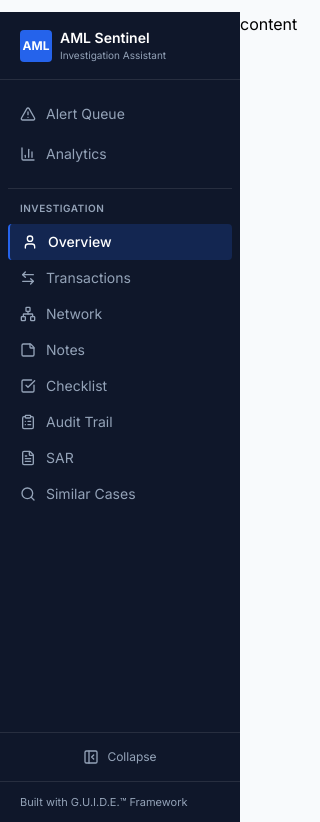
Test: AppShell › hides investigation section labels when sidebar is collapsed on investigation route
Click the button with aria-label "Collapse sidebar" at (120,756), box [8,740,232,772]
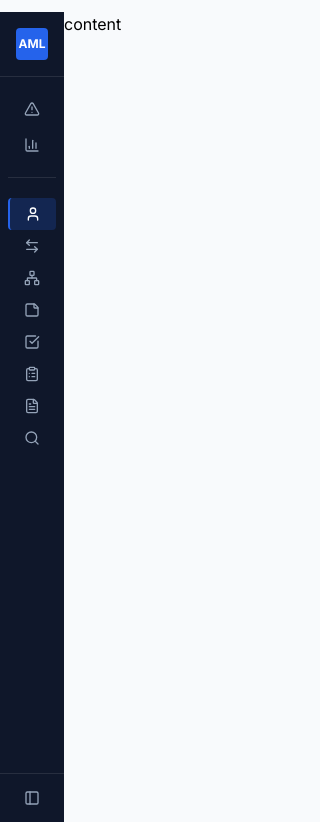
Expected: the button named "Overview" is shown, [8,198,56,230]
Expected: the button "Overview" is gone
